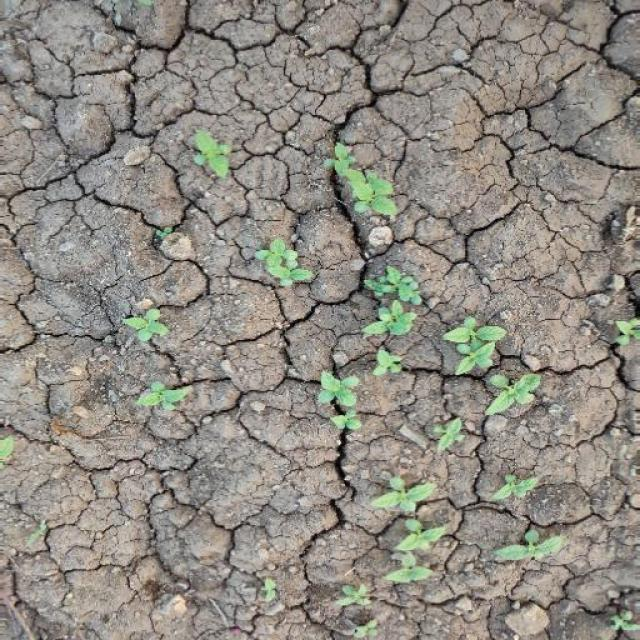crop: (363, 466, 452, 595), (444, 311, 546, 419), (318, 138, 407, 228), (354, 258, 426, 344), (254, 230, 318, 294), (112, 295, 178, 347), (486, 530, 572, 566), (188, 128, 240, 184), (129, 376, 195, 419), (490, 468, 540, 510)
